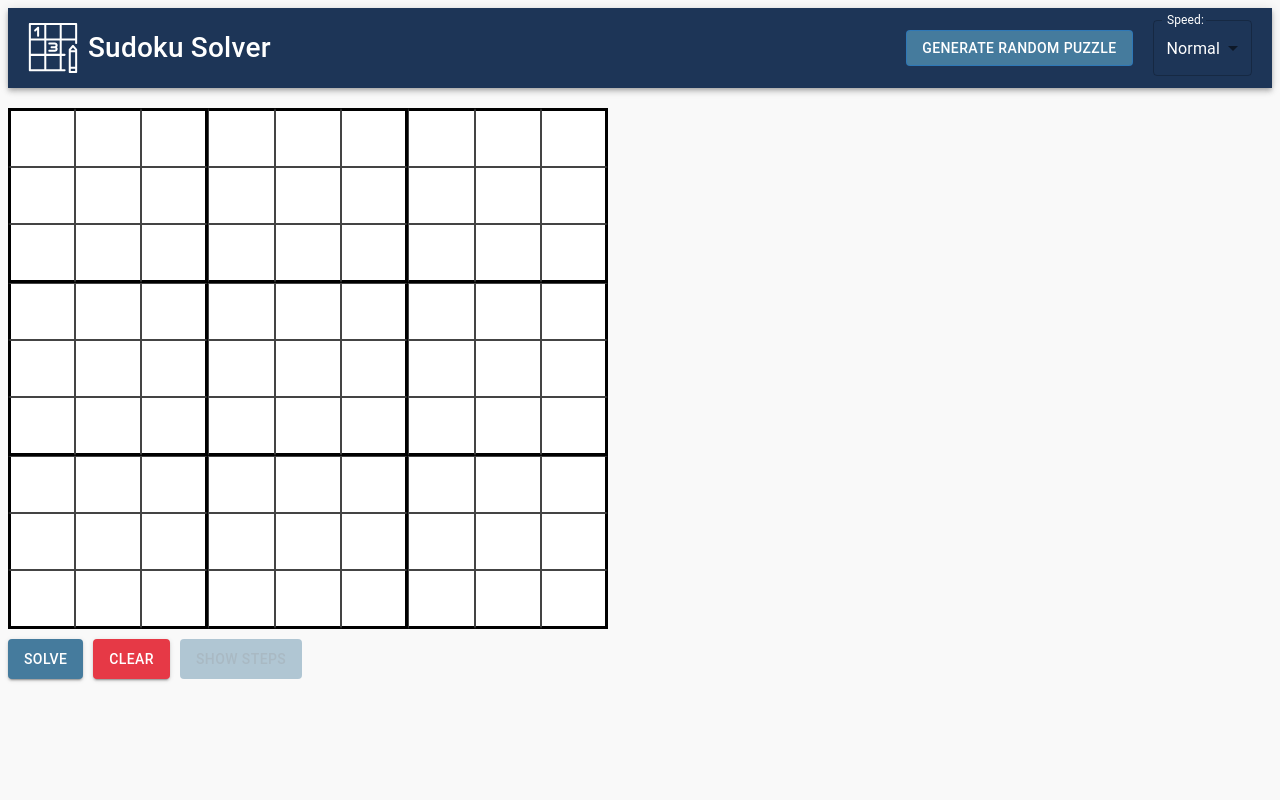
Scenario: only enables show steps button if puzzle is solved
expect the button "Show Steps" is disabled: met, box [180,639,302,679]
Click the button "Solve" at (46, 659), box [8,639,83,679]
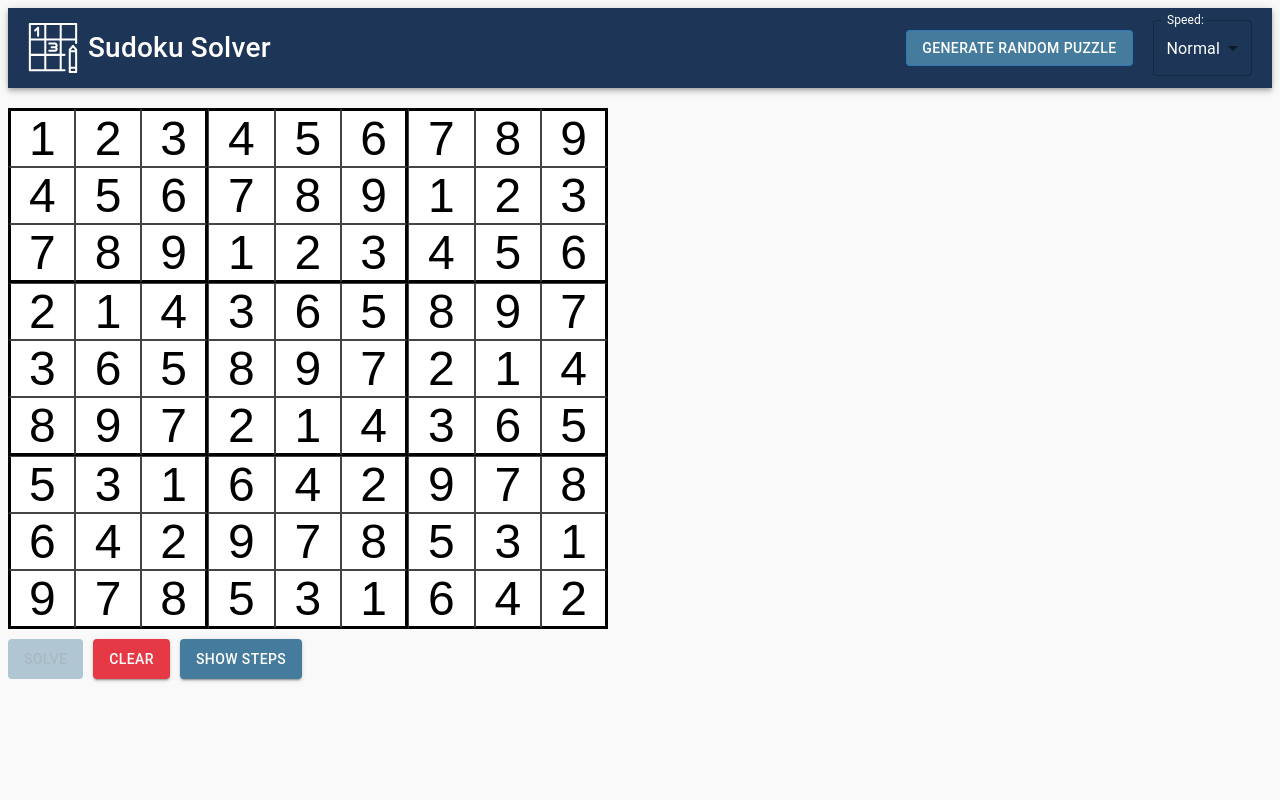
expect the button "Show Steps" is enabled: met, box [180,639,302,679]
